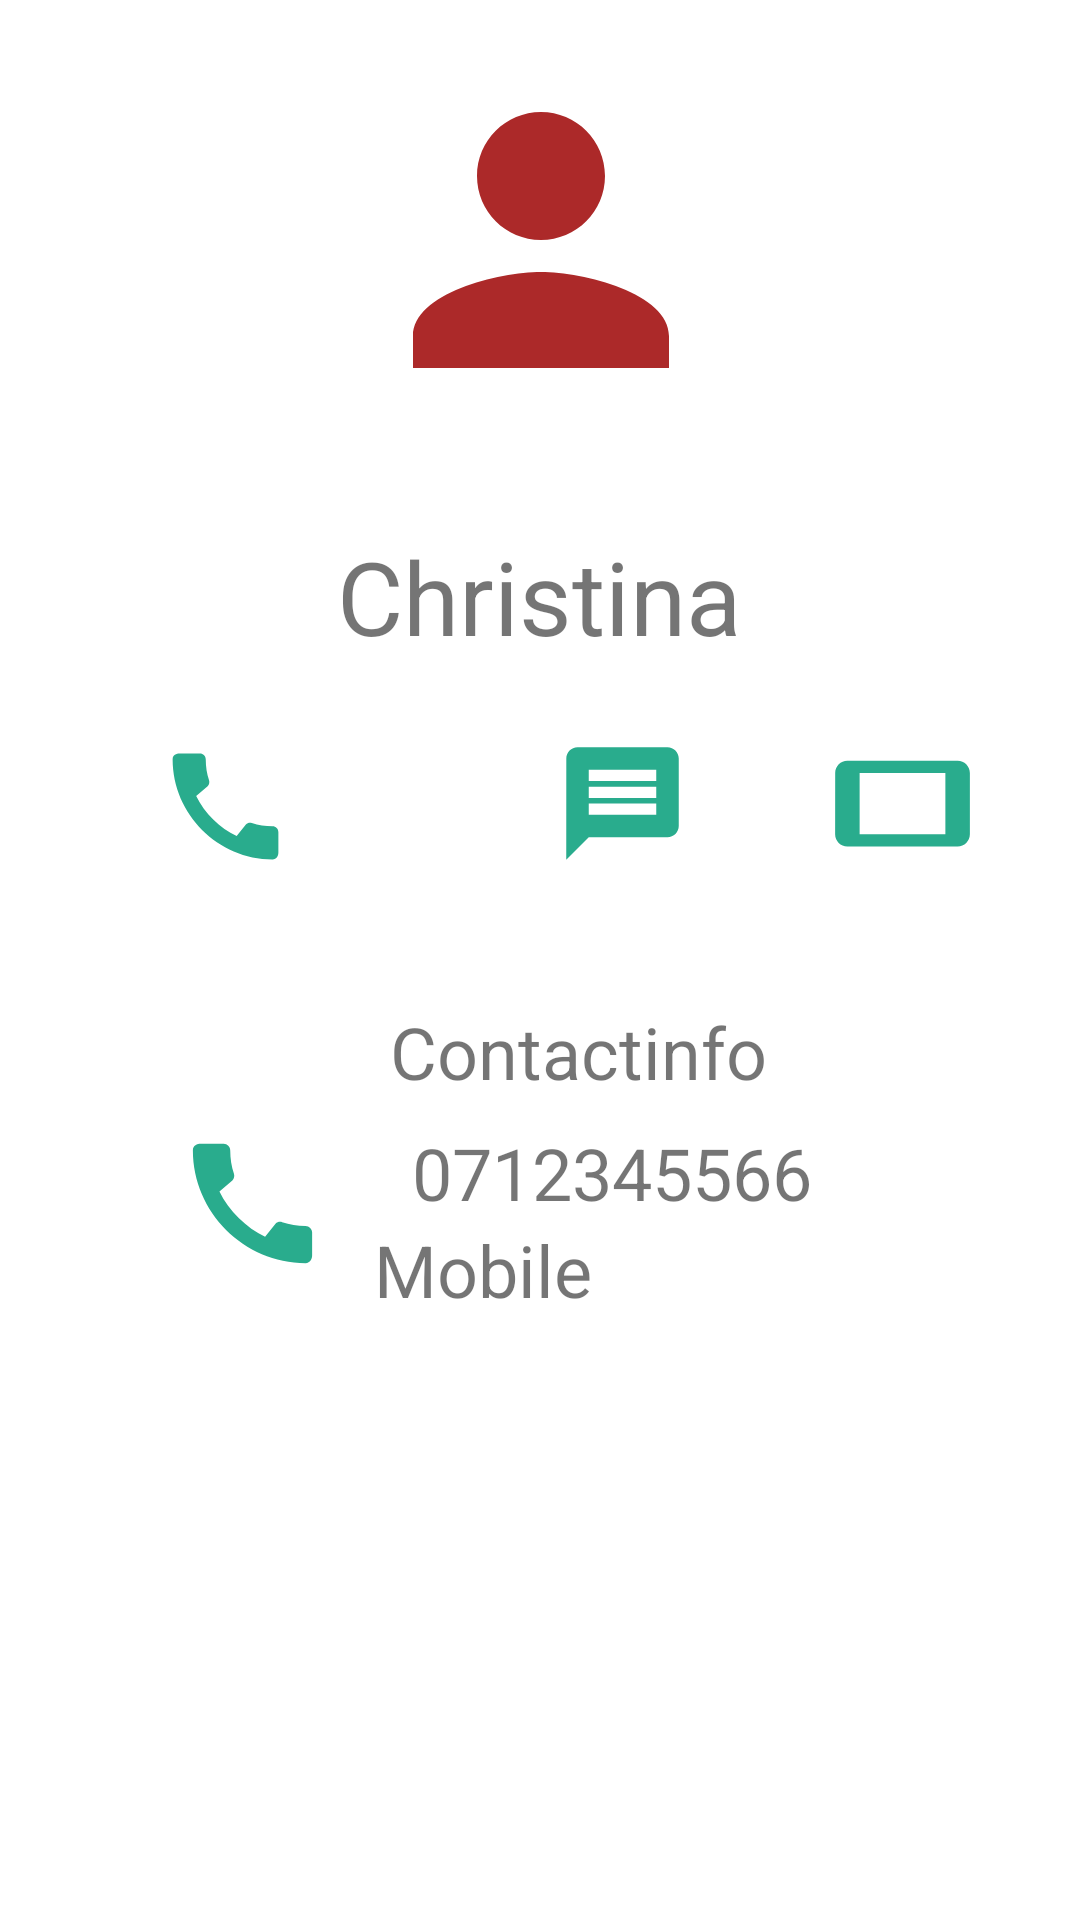

Icons on this 1080w x 1920h Android screen, each with the point to tap as (x=x, y=y):
call: (x=225, y=806), (x=252, y=1203)
message: (x=622, y=803)
person: (x=541, y=240)
stay current landscape: (x=902, y=803)
